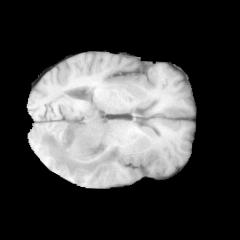glioma: (39, 105, 119, 176)
